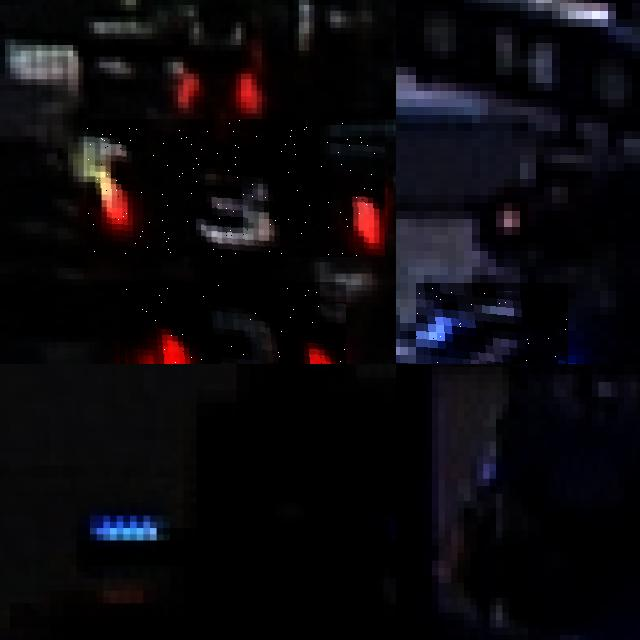B1: (416, 283, 568, 364)
R3: (87, 119, 385, 257), (120, 282, 345, 364)
